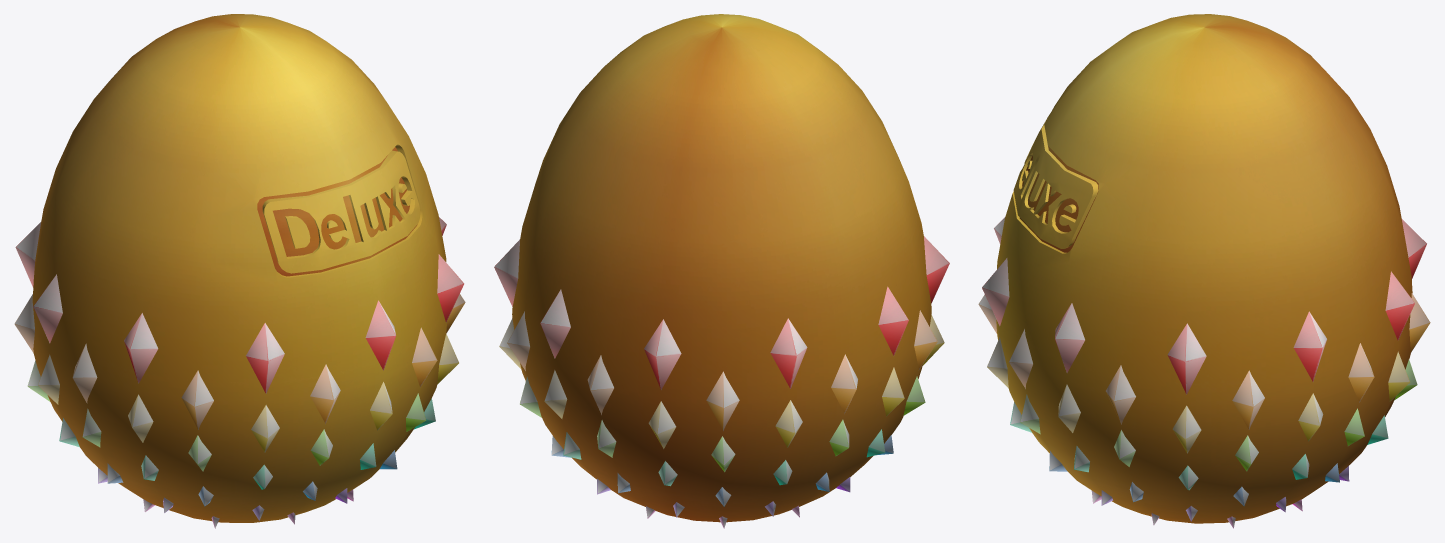
Rendered from goodEgg.fbx.
3 views of the same model, side by side, from view 1: azimuth 30°, elevation 25°; view 2: azimuth 150°, elevation 25°; view 3: azimuth 270°, elevation 25° (orthographic).
Parts seen in each view (by area): view 1: eggsPack.001; view 2: eggsPack.001; view 3: eggsPack.001.
Part boxes in pixels (left/top/right/bottom): eggsPack.001: left=14, top=14, right=465, bottom=528; eggsPack.001: left=494, top=14, right=949, bottom=528; eggsPack.001: left=978, top=14, right=1430, bottom=528.
Size of the model in its own units: 499 by 576 by 495.
